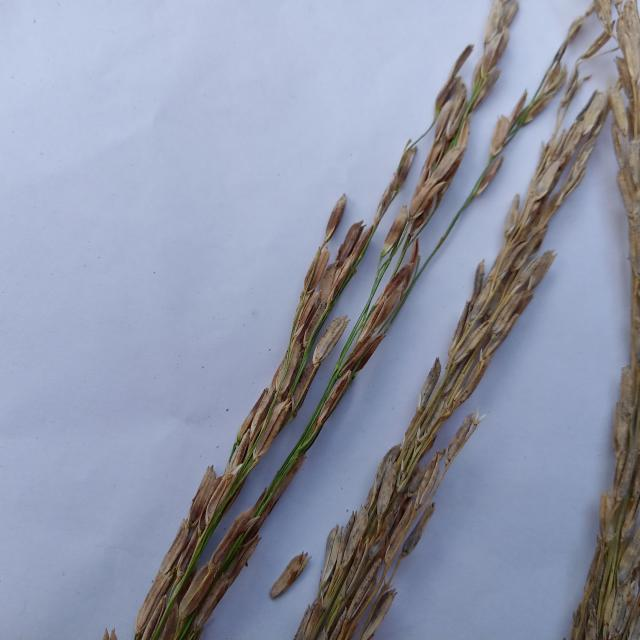Neck_Blast: (158, 56, 497, 640), (299, 127, 604, 639), (138, 218, 378, 638), (575, 2, 640, 639)
